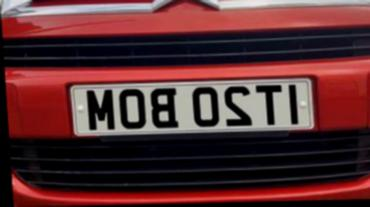License_Plate: (70, 79, 315, 139)
